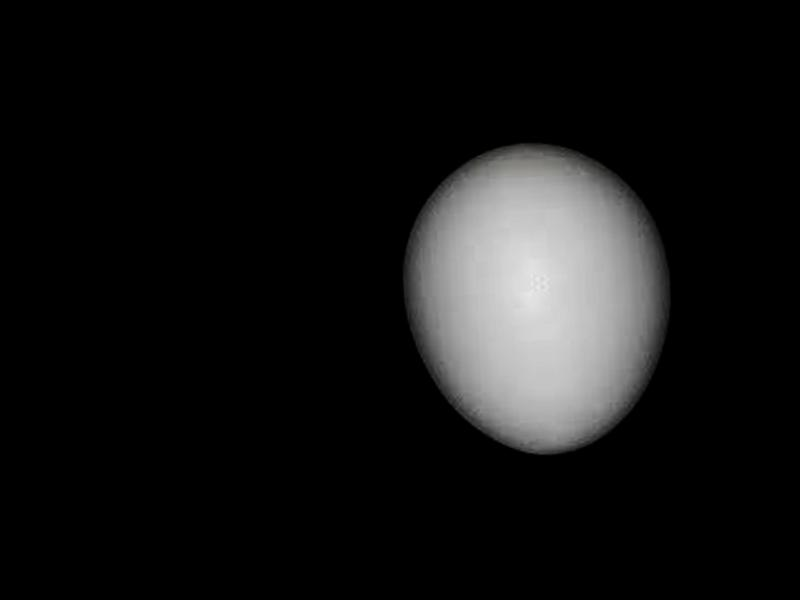Eggs: (397, 137, 678, 458)
